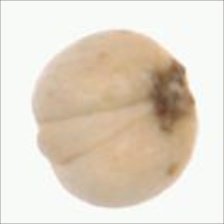L5: (32, 95, 149, 169), (150, 57, 198, 139)
L6: (30, 27, 201, 210)
